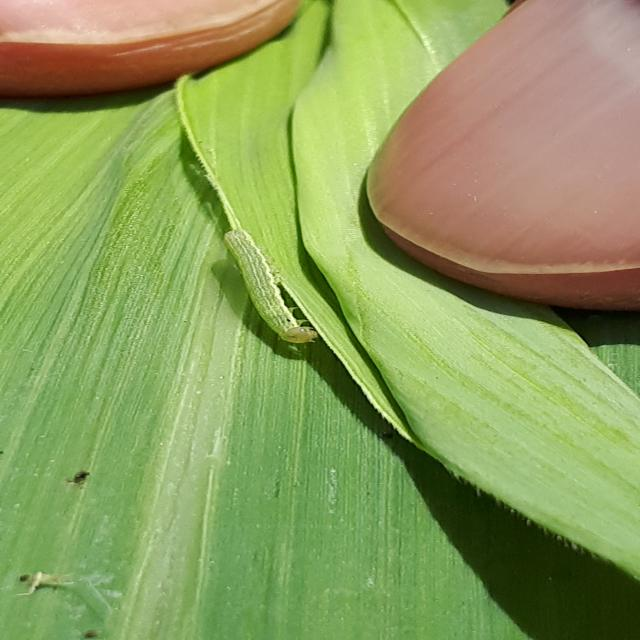armyworm: (211, 221, 327, 362)
